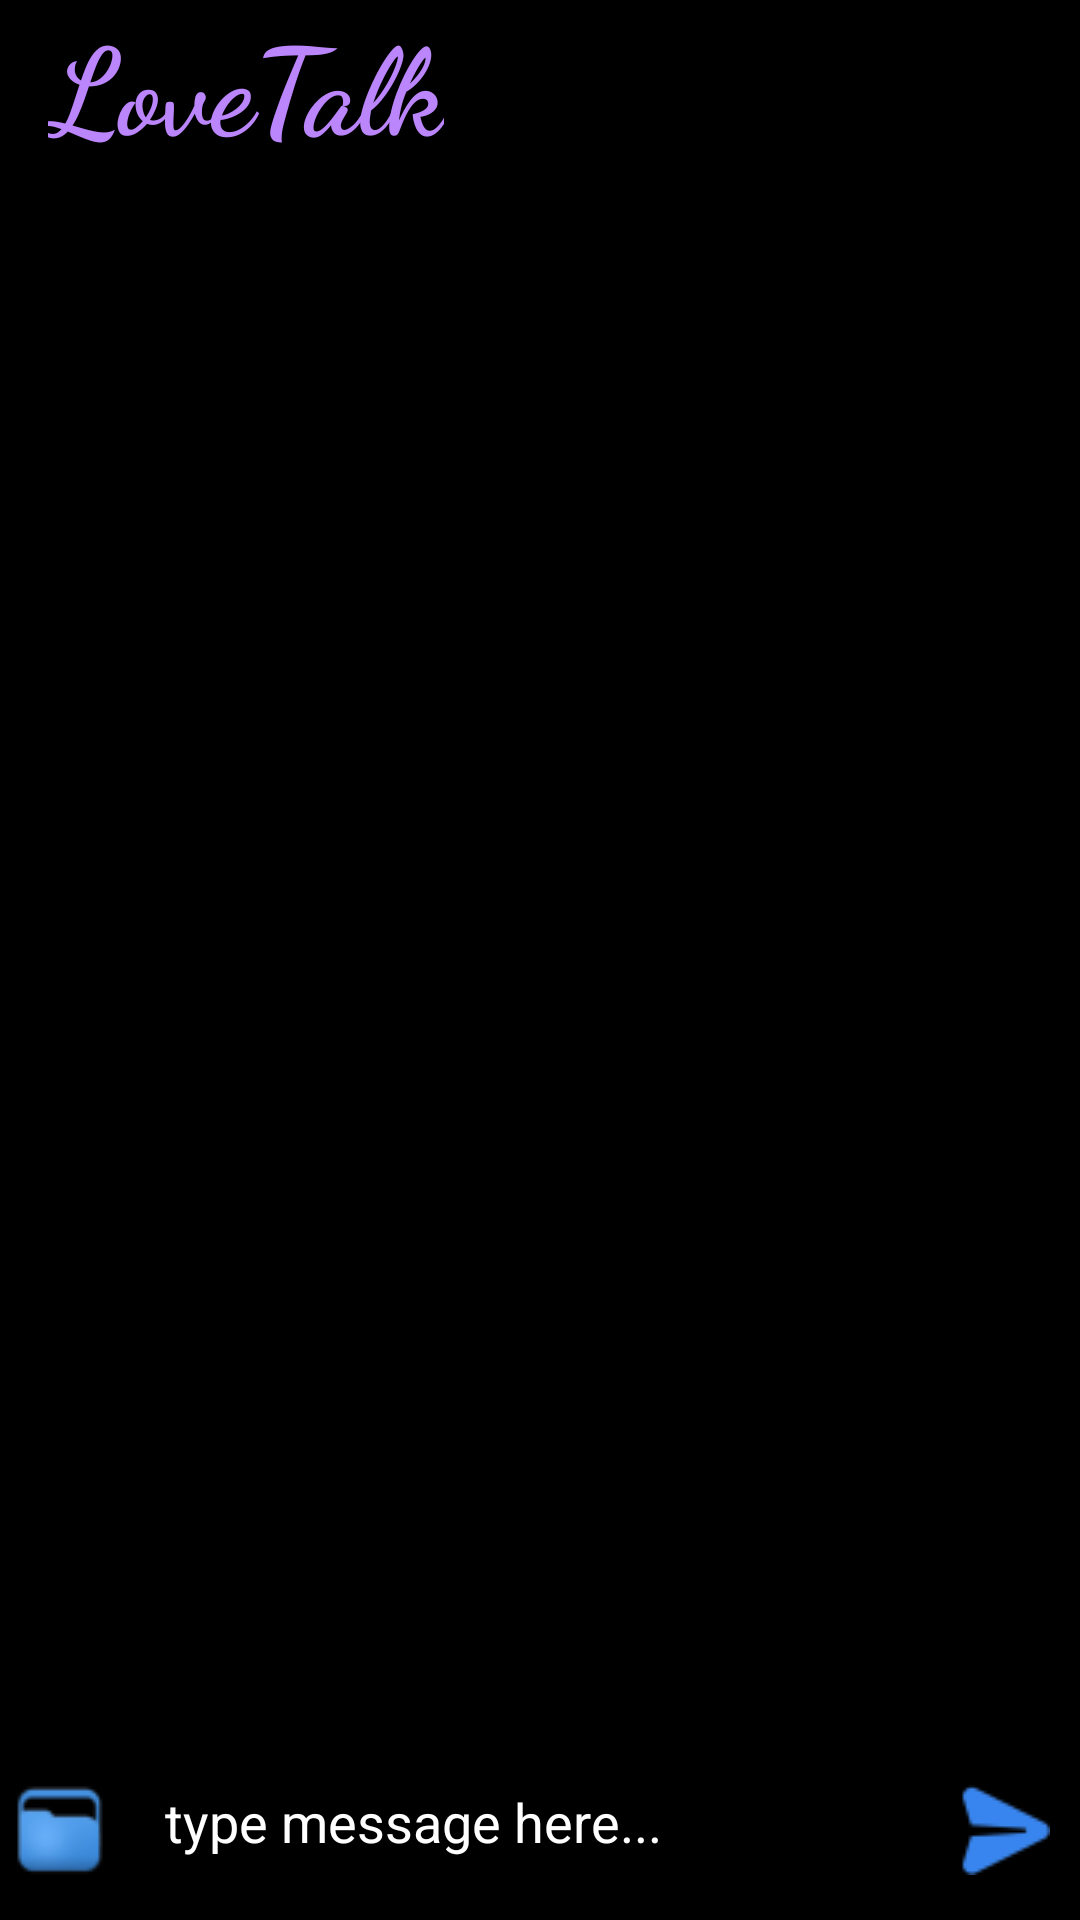

Screen size 1080px×1920px. Icon name, then its center in pixels as [x,y]:
emon send: [1006,1831]
file manager: [59,1829]
